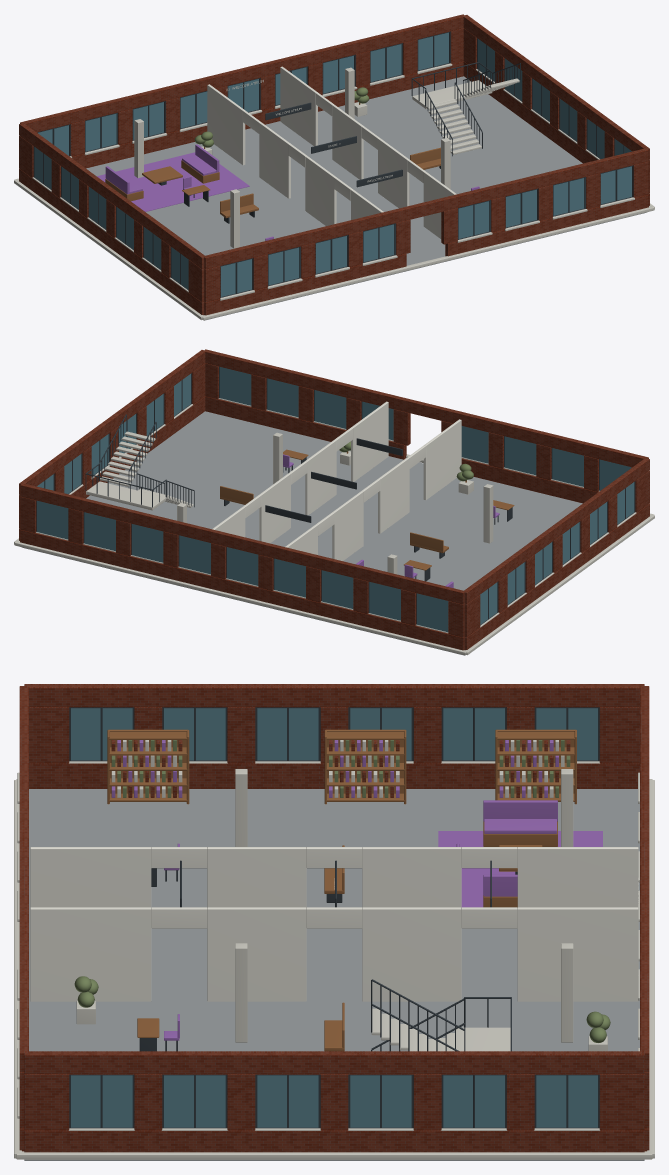
Rendered from SM_LegacyTower_Level00.fbx.
3 views of the same model, one above another, from view 1: azimuth 30°, elevation 25°; view 2: azimuth 150°, elevation 25°; view 3: azimuth 270°, elevation 25° (orthographic). The views are drawn at different scales.
Parts seen in each view (by area): view 1: SM_LegacyTower_Level00; view 2: SM_LegacyTower_Level00; view 3: SM_LegacyTower_Level00.
Part boxes in pixels (x1,y1,x2,y2): SM_LegacyTower_Level00: (14, 14, 654, 320); SM_LegacyTower_Level00: (14, 349, 654, 655); SM_LegacyTower_Level00: (14, 684, 654, 1160).
Size of what is drawn, in the model's own units: 2866 by 2066 by 486.
